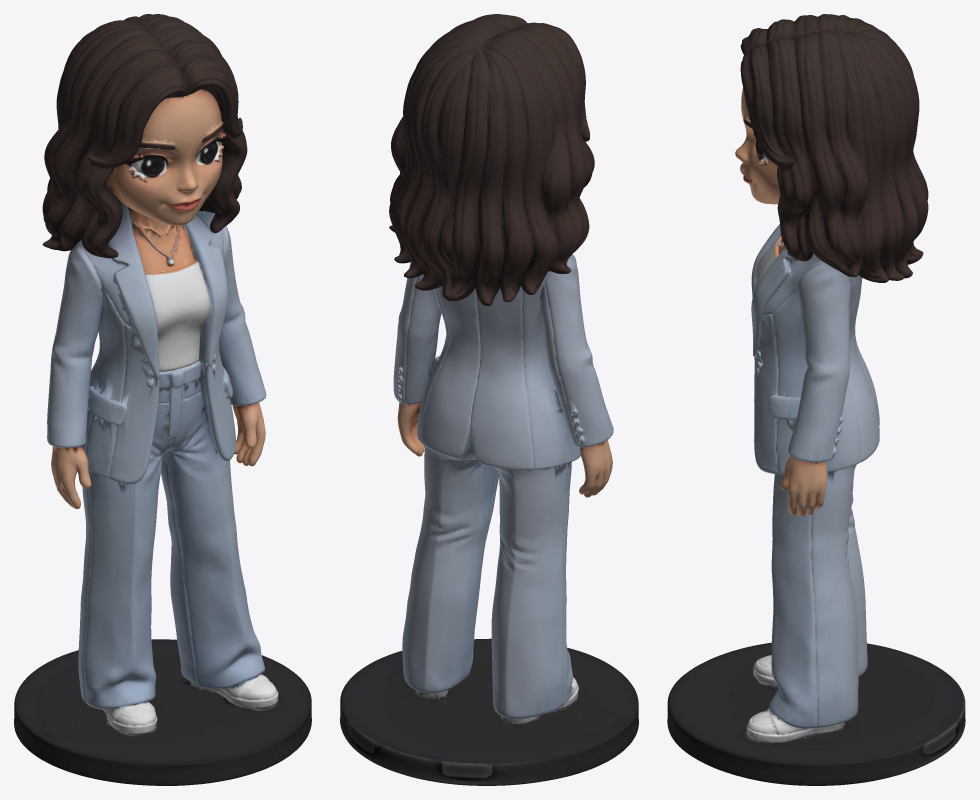
Rendered from businesswoman.glb.
3 renders of one model, left to right at view 1: azimuth 30°, elevation 25°; view 2: azimuth 150°, elevation 25°; view 3: azimuth 270°, elevation 25°, orthographic.
Parts seen in each view (by area): view 1: tripo_node_3cb0aeb2-052d-4796-a6de-f0dd970026ab; view 2: tripo_node_3cb0aeb2-052d-4796-a6de-f0dd970026ab; view 3: tripo_node_3cb0aeb2-052d-4796-a6de-f0dd970026ab.
Part boxes in pixels (left/top/right/bottom): tripo_node_3cb0aeb2-052d-4796-a6de-f0dd970026ab: left=14, top=14, right=311, bottom=785; tripo_node_3cb0aeb2-052d-4796-a6de-f0dd970026ab: left=340, top=14, right=638, bottom=785; tripo_node_3cb0aeb2-052d-4796-a6de-f0dd970026ab: left=667, top=14, right=965, bottom=785.
Bounding box in the file's own units: 0.3806 × 0.98 × 0.3814.
Materials: 1 (1 with a texture image).
